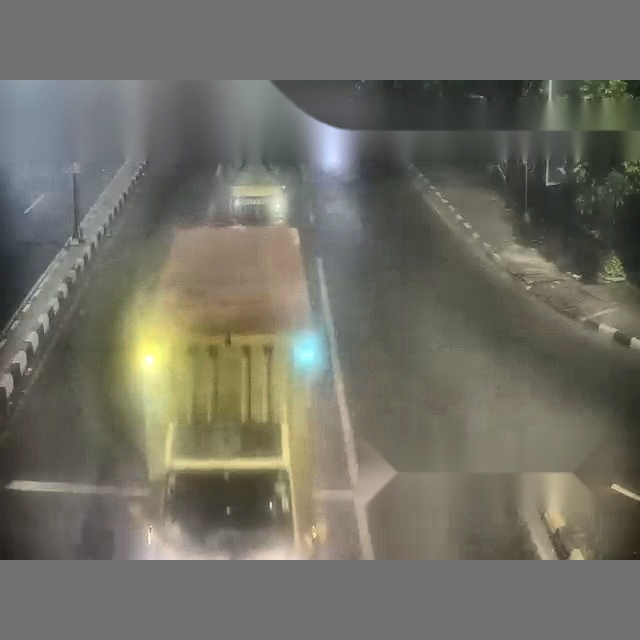Truk: (190, 88, 640, 558)
